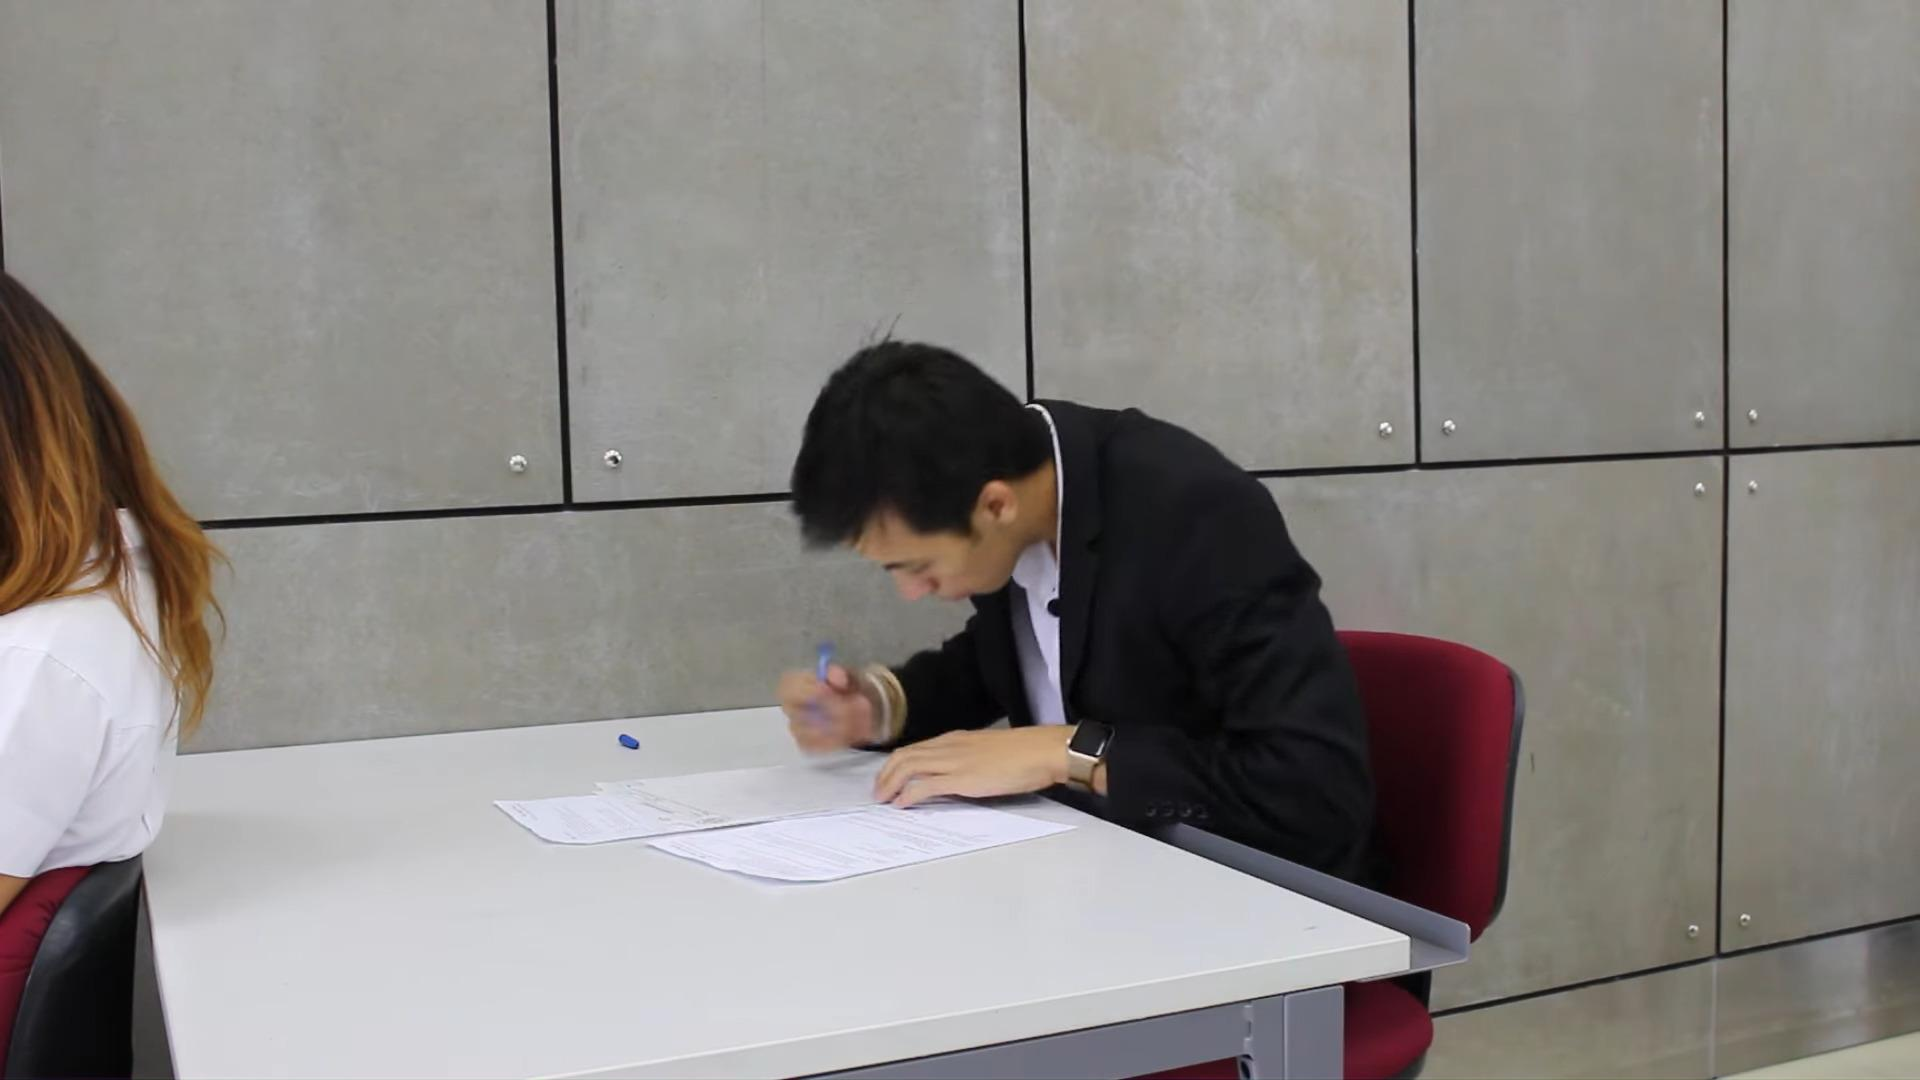good: (477, 320, 1418, 910)
